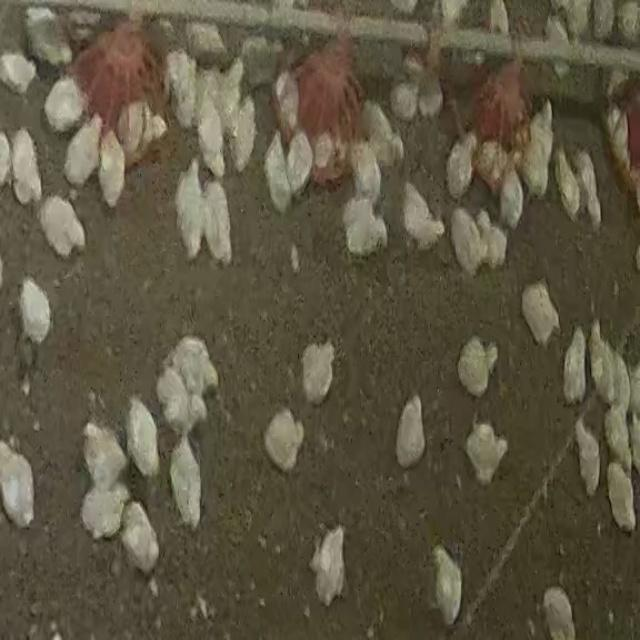chicken: (82, 421, 129, 497), (168, 436, 204, 530), (401, 180, 447, 249), (1, 439, 36, 529), (62, 115, 102, 191), (229, 35, 284, 90), (464, 420, 509, 487), (119, 502, 160, 574), (309, 527, 345, 609), (125, 397, 160, 480), (174, 335, 218, 401), (39, 195, 85, 258), (342, 195, 387, 258), (178, 156, 206, 257), (431, 544, 465, 626), (519, 283, 561, 349), (26, 8, 72, 68), (114, 101, 166, 154), (80, 483, 128, 540), (263, 408, 305, 473), (456, 335, 499, 398), (202, 178, 233, 264), (42, 74, 86, 134), (166, 51, 199, 130), (388, 51, 424, 122), (10, 127, 42, 206), (364, 102, 402, 167), (18, 276, 52, 348), (523, 116, 553, 196), (572, 148, 602, 228), (197, 96, 226, 178), (156, 365, 190, 434), (395, 398, 428, 468), (574, 416, 602, 498), (213, 63, 244, 137), (304, 336, 337, 404), (605, 460, 636, 532), (98, 129, 126, 208), (192, 65, 222, 137), (264, 136, 292, 212), (527, 100, 560, 164), (450, 206, 481, 273), (272, 64, 300, 138), (562, 325, 588, 404), (351, 139, 383, 203), (553, 145, 581, 218), (605, 101, 632, 176), (605, 406, 633, 475), (446, 134, 476, 198), (286, 130, 315, 195), (231, 102, 257, 172), (497, 166, 525, 231), (542, 586, 576, 638), (0, 51, 38, 97), (588, 322, 610, 397), (189, 21, 228, 60), (608, 348, 631, 414), (481, 216, 509, 270), (312, 132, 339, 180), (416, 75, 444, 120), (564, 1, 592, 38), (544, 15, 570, 50), (632, 408, 640, 478)
